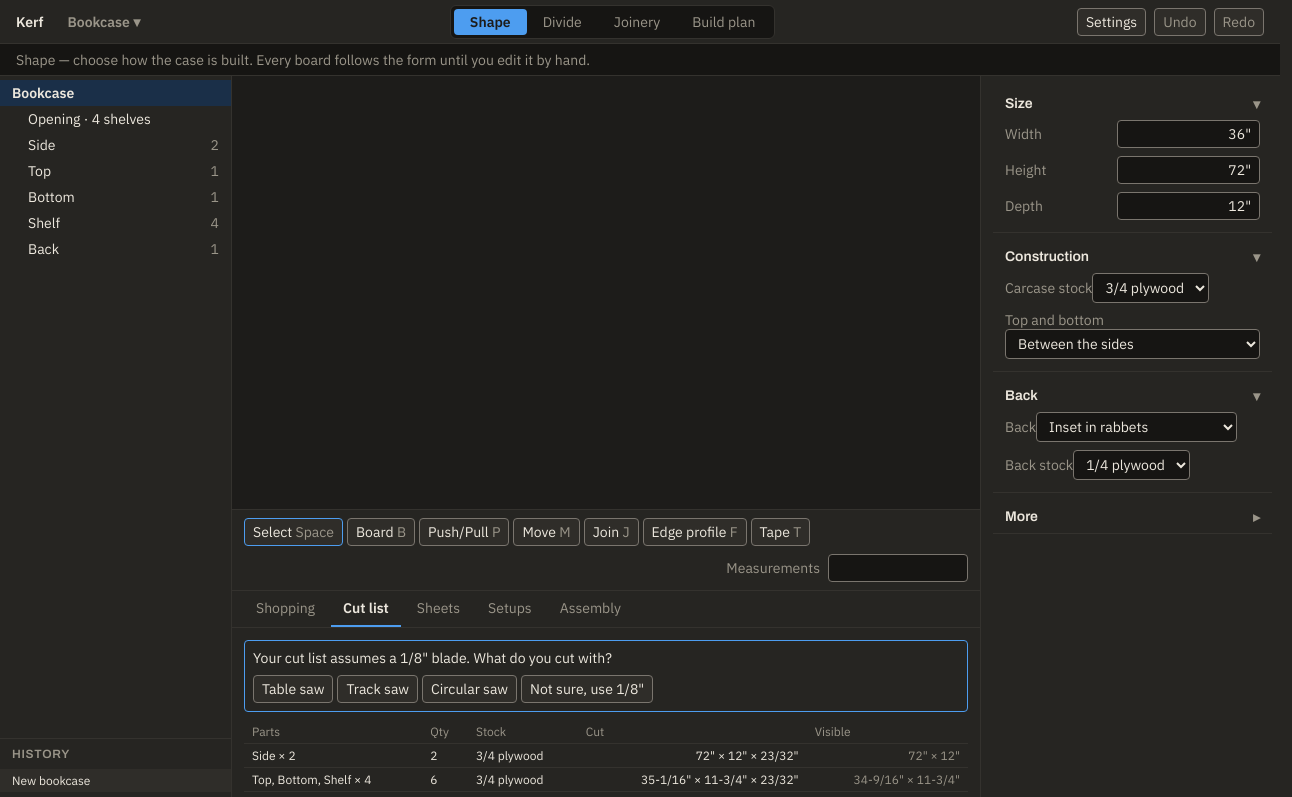
it: <TopBar> Kerf button and project menu › leaves the keyboard on what was clicked when the name field is left by a click
Click the button "Bookcase ▾" at point(104, 22), box [60,8,148,34]
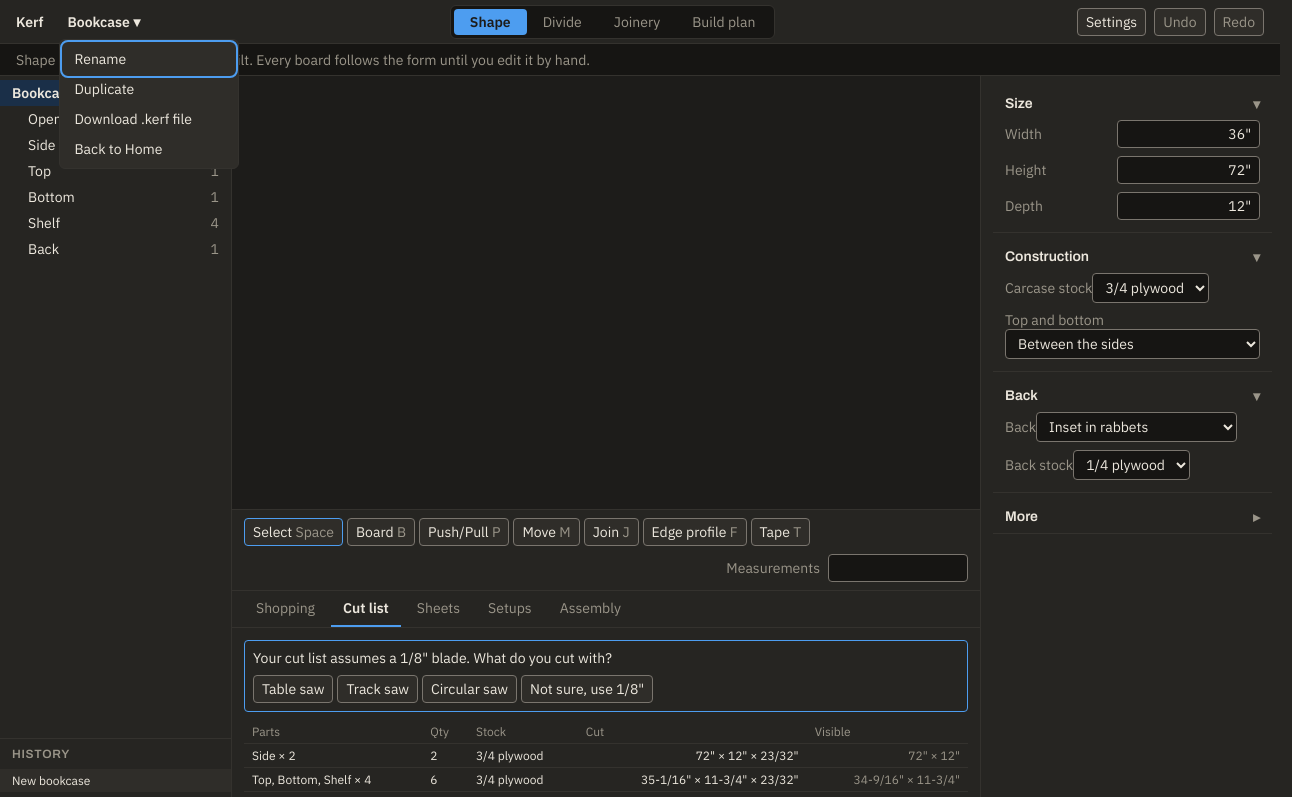
Click the menu item "Rename" at point(150, 58), box [64,44,234,74]
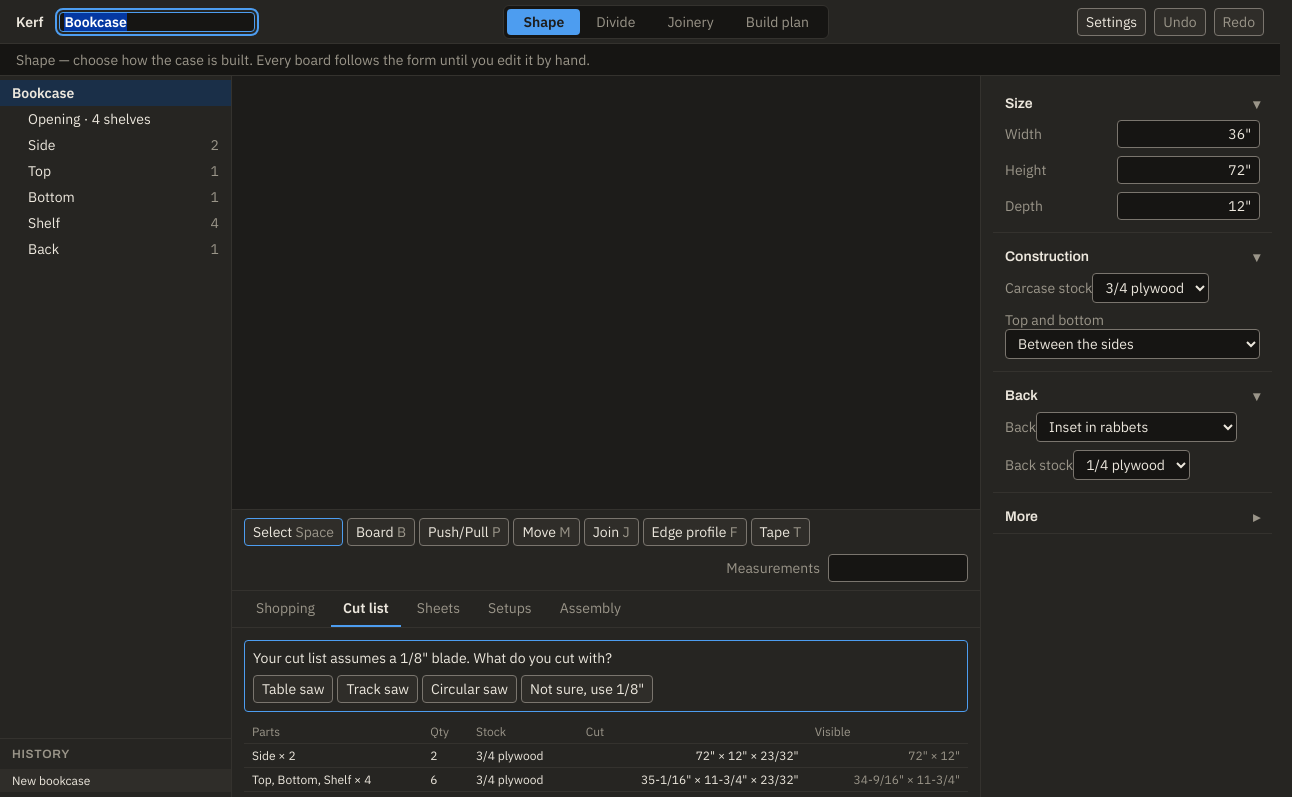
Type " two" into the field named "Name" at point(158, 22), box [60,12,256,32]
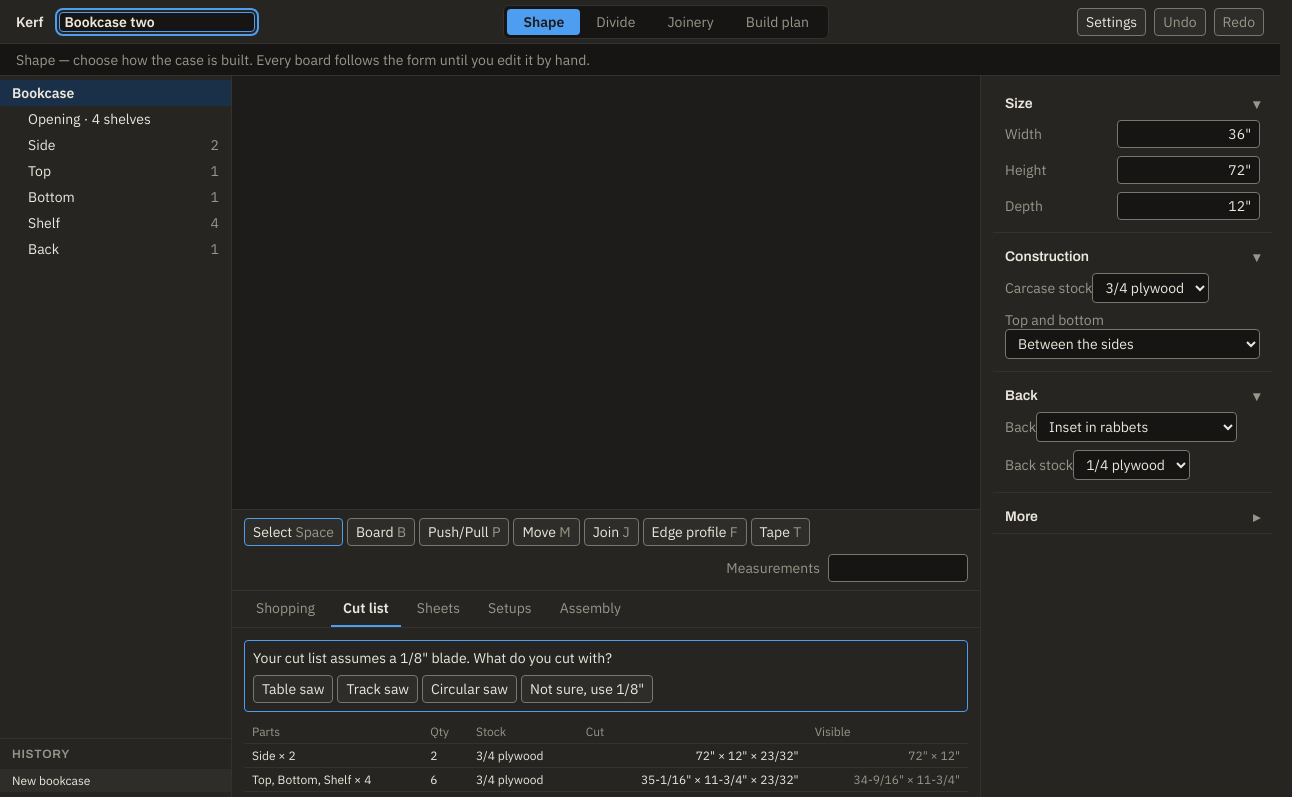
Click the button "Board B" at point(381, 532), box [347,518,415,546]
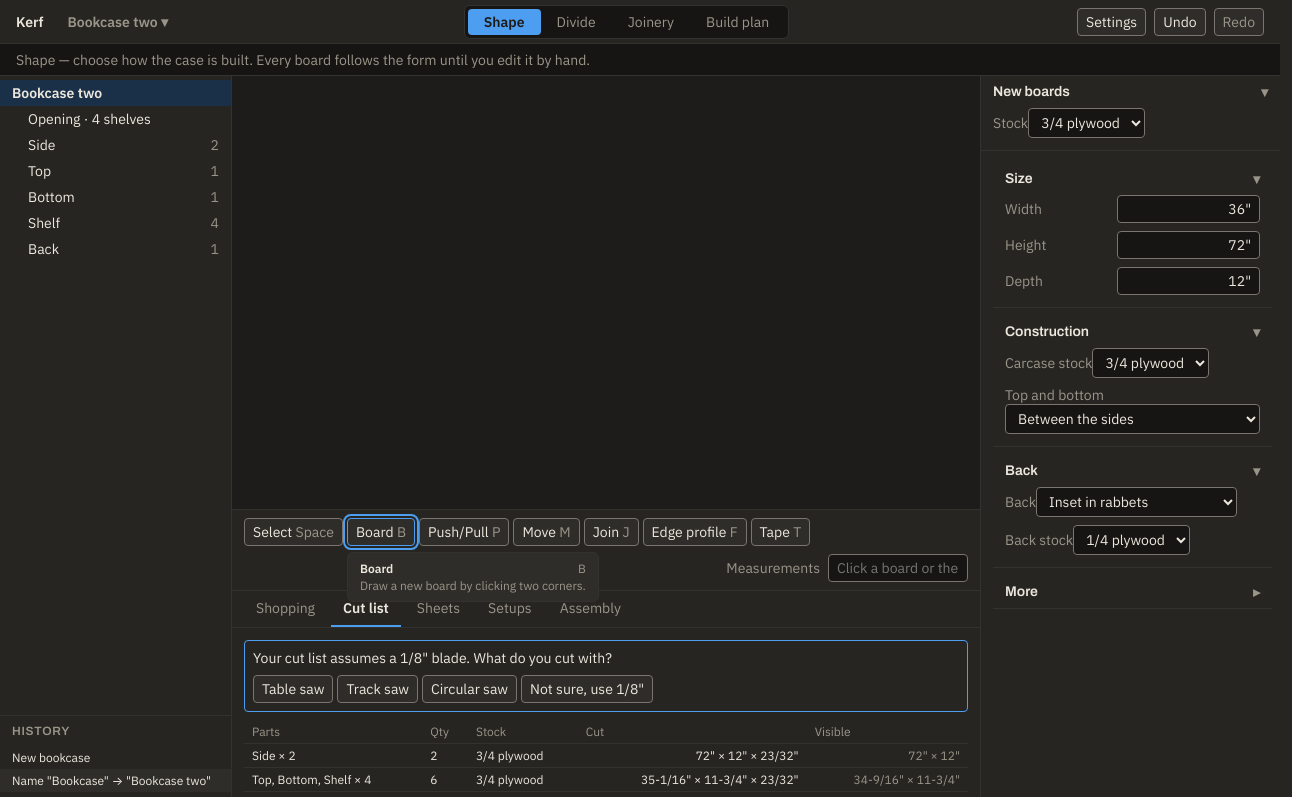
Expected: the button "Bookcase two ▾" is shown, [60,8,176,34]
